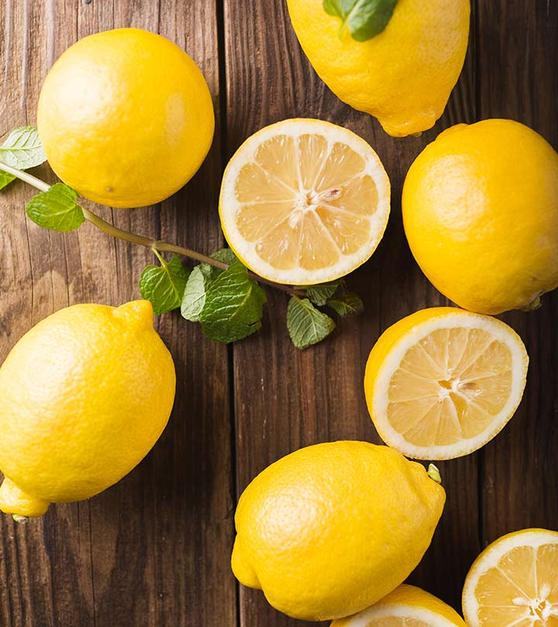lemon: (1, 296, 181, 531), (229, 441, 453, 622), (32, 20, 218, 223), (402, 114, 558, 313)
